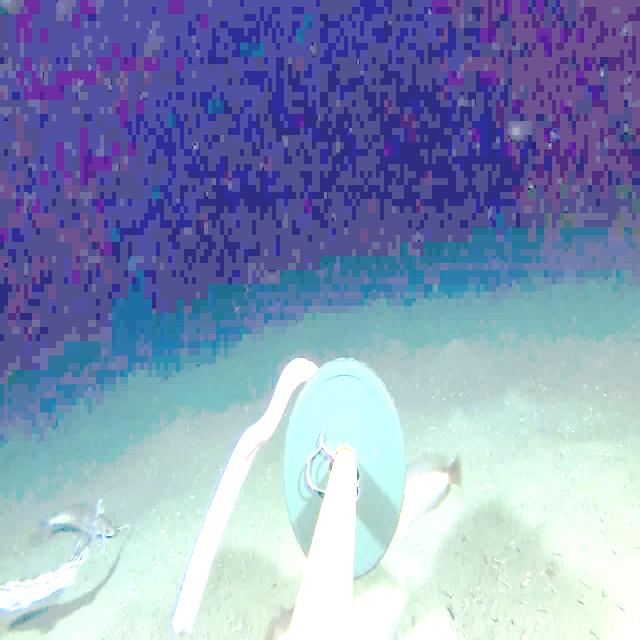eel: (147, 321, 329, 639)
fish: (0, 533, 91, 630), (383, 448, 467, 552), (39, 486, 132, 544)
pole: (279, 357, 406, 639)
